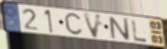1: (44, 9, 54, 34)
2: (21, 8, 40, 32)
C: (64, 12, 84, 37)
L: (130, 18, 149, 44)
N: (107, 15, 133, 42)
V: (81, 11, 104, 40)
